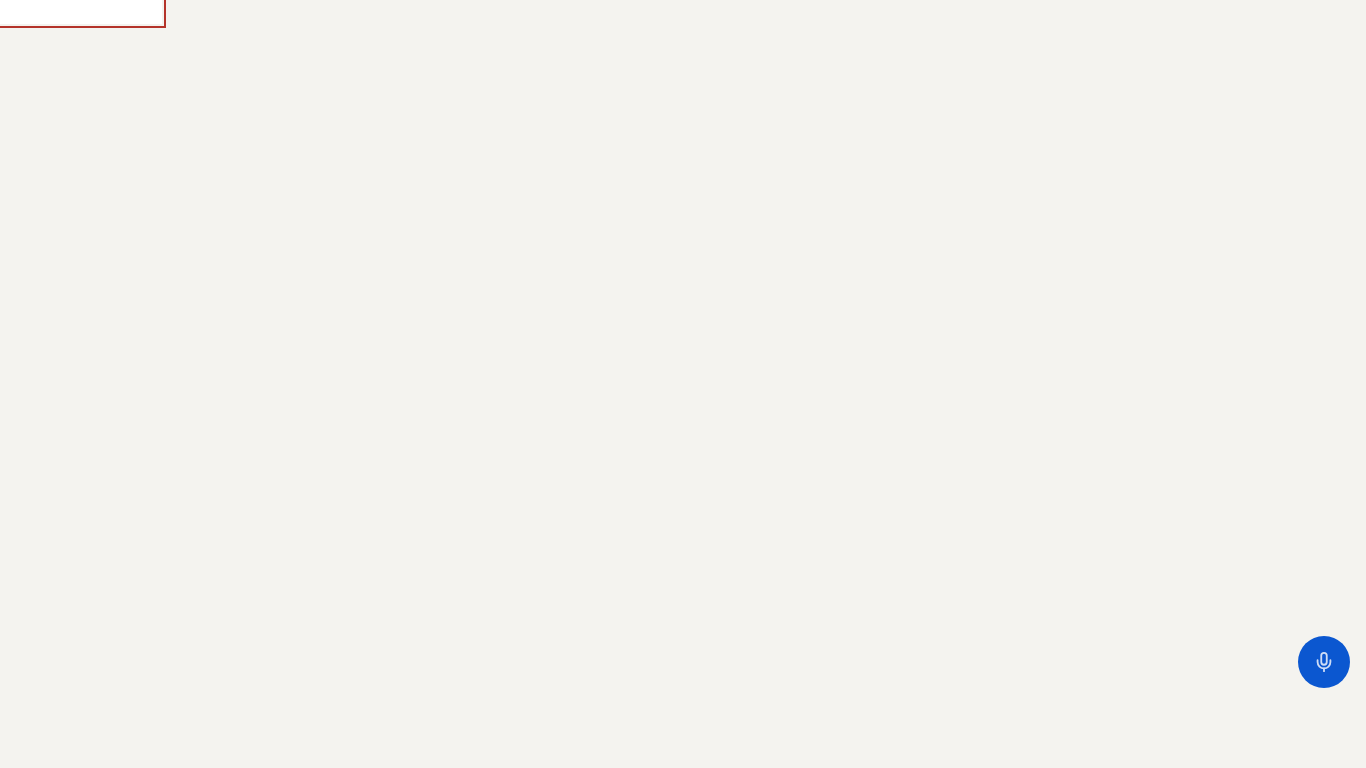
郵便番号の住所検索 › 住所が 1 件見つかると 3 欄に入り、番地の録音へ進む
Click the button named "音声入力を開始": (1324, 662) [1298, 636, 1350, 688]
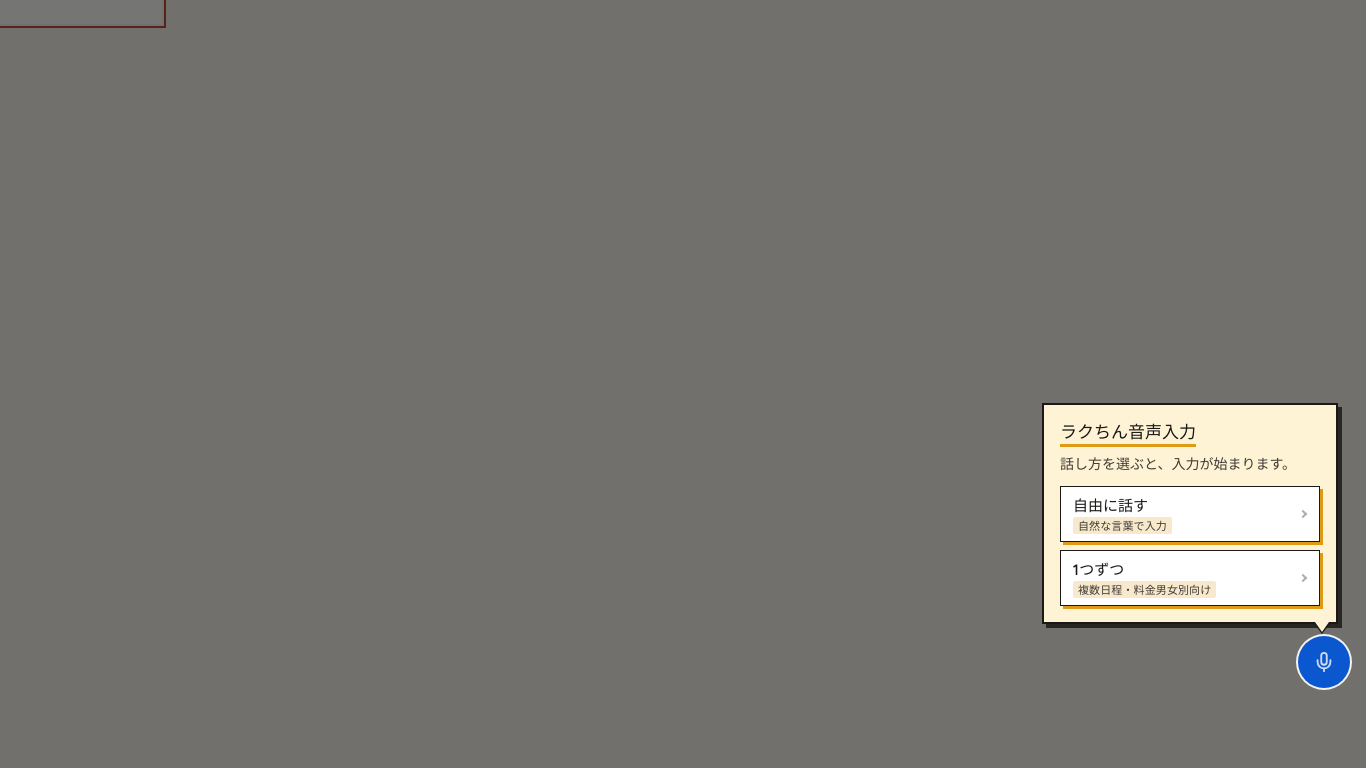
Click the button "1つずつ 複数日程・料金男女別向け": (1099, 569) [1060, 550, 1320, 606]
Wait 1550 ms
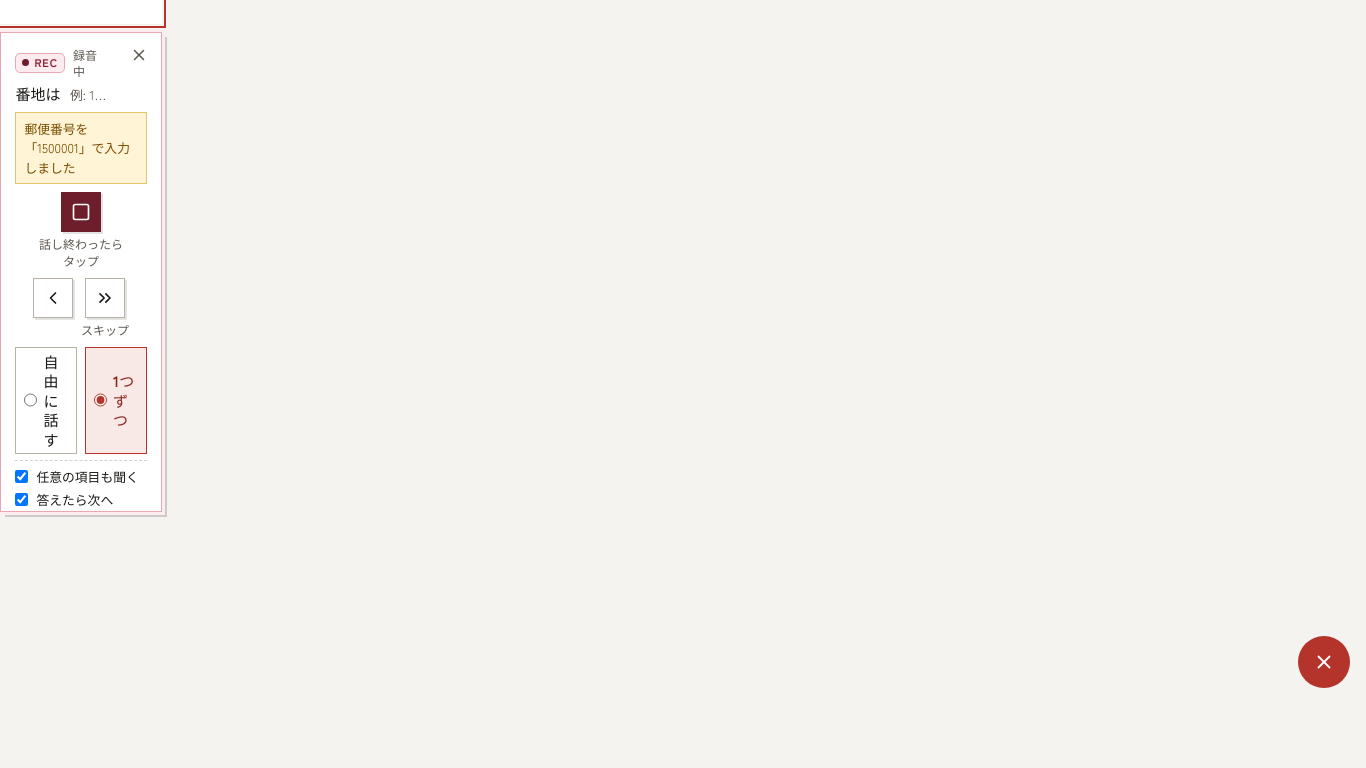
Result: the text "番地は？" is shown at [15, 85, 62, 103]
Result: the button named "録音を停止" is shown at [61, 192, 101, 232]
